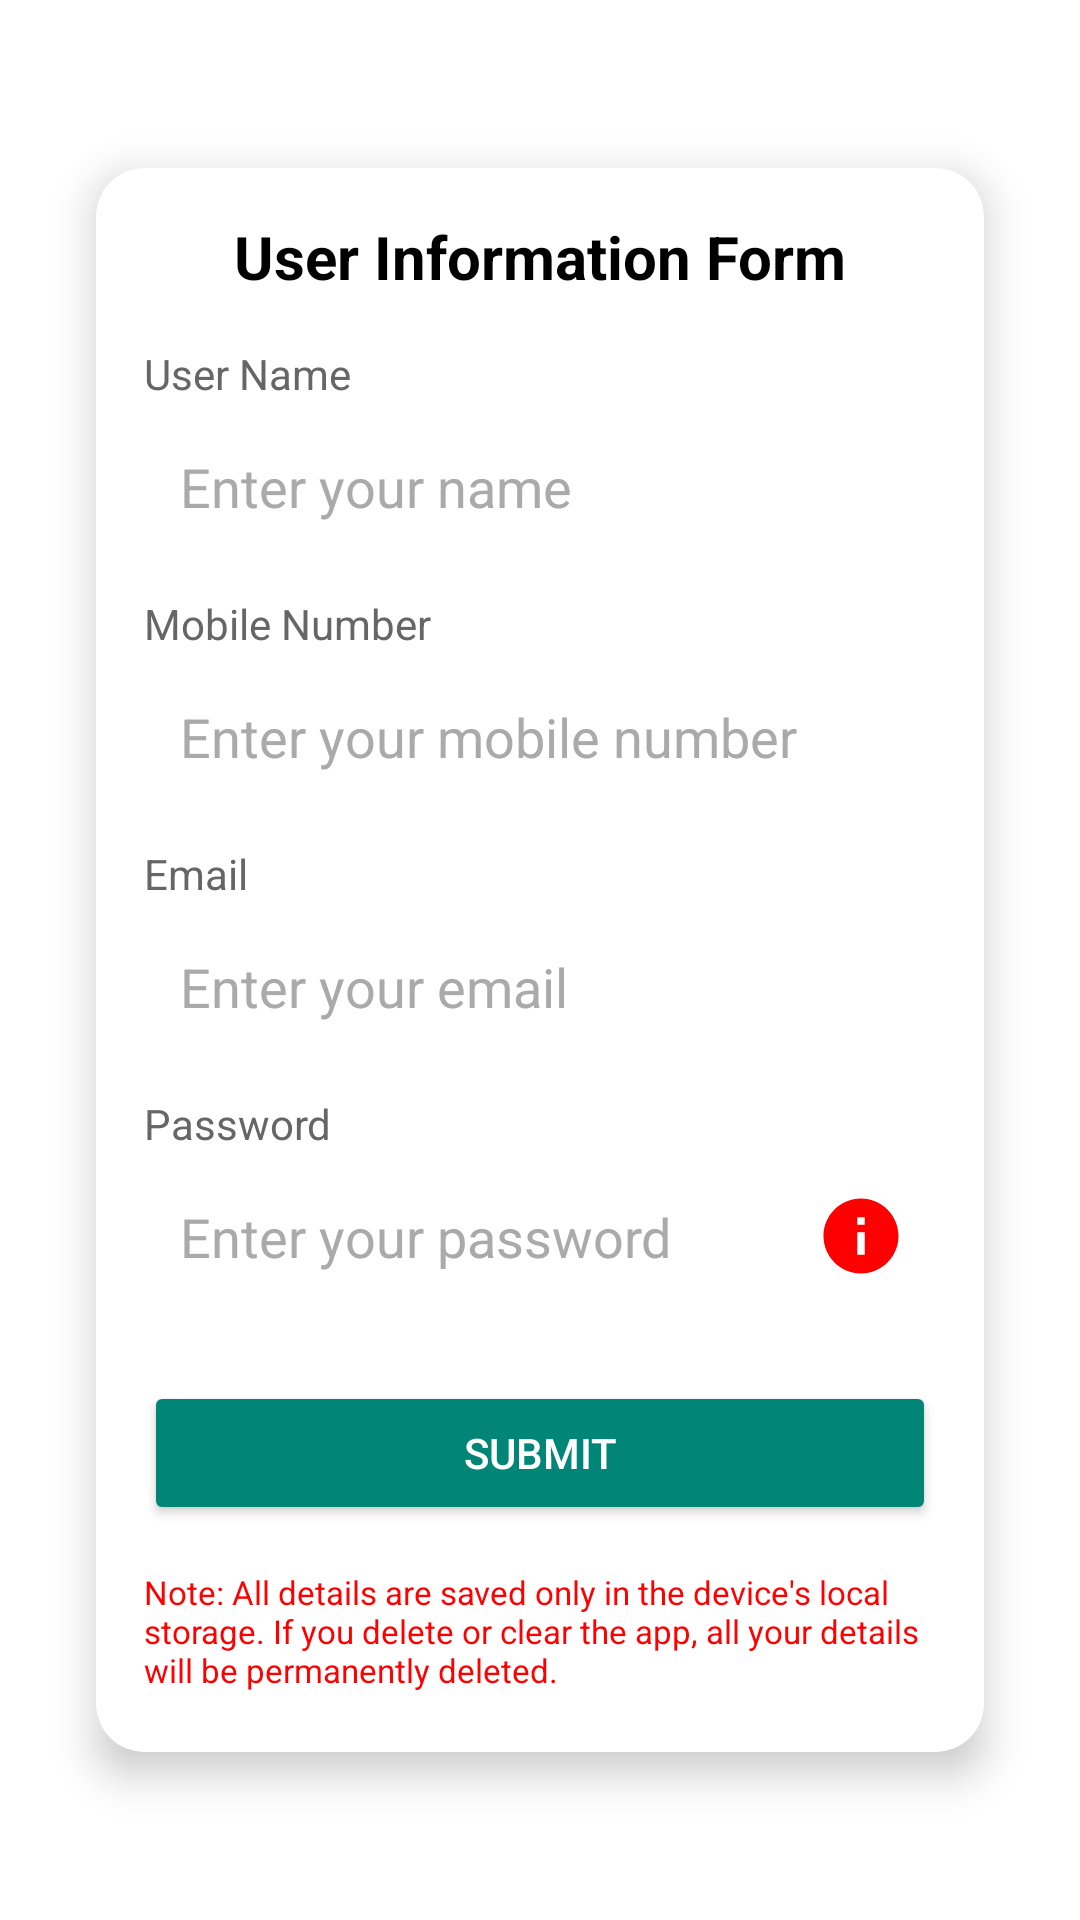

Icons on this 1080 × 1920 Android screen, each with its box as (x1=x1, y1=y1, x2=x2, y2=y2):
Password Hint: (x1=823, y1=1198, x2=899, y2=1274)
